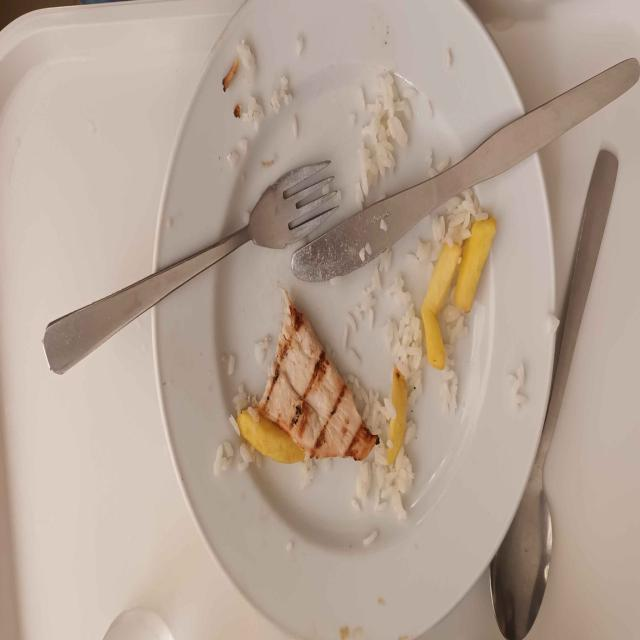board: (0, 0, 640, 639)
chicken steak: (247, 292, 379, 460)
fork: (43, 161, 341, 374)
french fries: (420, 217, 497, 369), (236, 411, 305, 463), (387, 368, 408, 466)
knife: (292, 58, 640, 281)
plate: (151, 0, 557, 639)
rice: (383, 190, 497, 409), (360, 73, 410, 203), (355, 447, 412, 508), (348, 251, 391, 328), (350, 378, 391, 434)
spoon: (490, 150, 618, 639)
